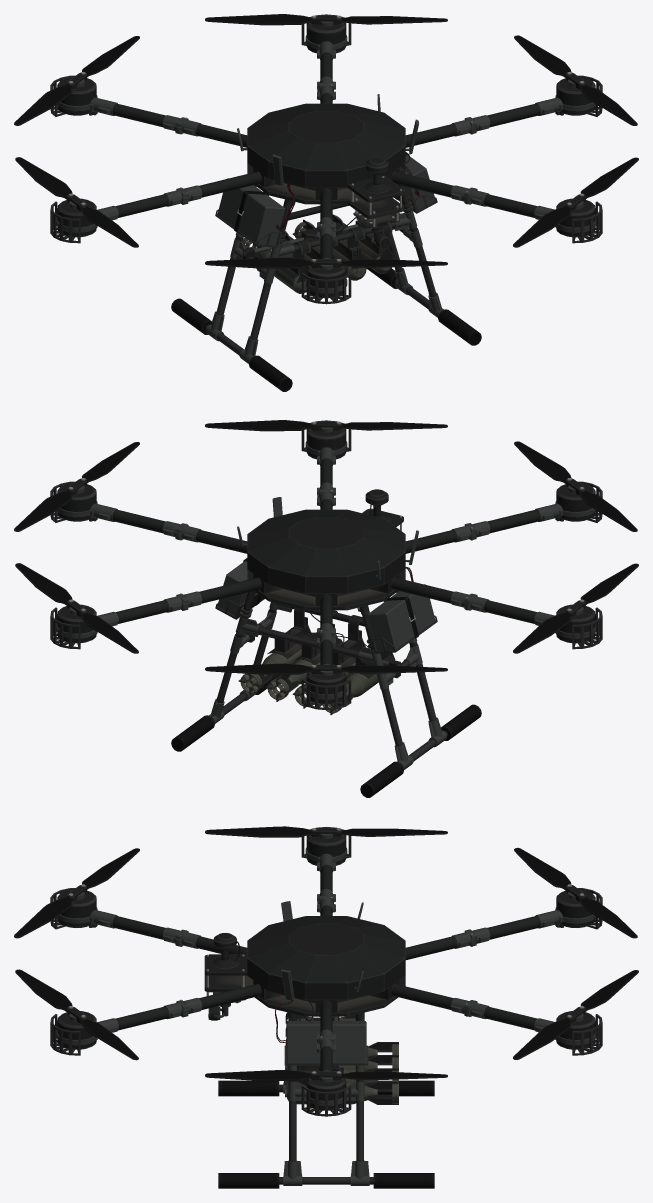
The model's file is vampire_uav_babayaga.glb.
3 renders of one model, top to bottom at view 1: azimuth 30°, elevation 25°; view 2: azimuth 150°, elevation 25°; view 3: azimuth 270°, elevation 25°, orthographic.
Visible parts, largest first — view 1: BabaYaga; view 2: BabaYaga; view 3: BabaYaga.
Part boxes in pixels (x1,y1,x2,y2): BabaYaga: (14, 14, 638, 391); BabaYaga: (14, 420, 638, 797); BabaYaga: (14, 826, 638, 1188).
Size of the model in its own units: 4.13 by 1.49 by 4.1.
1 material, 1 textured.
